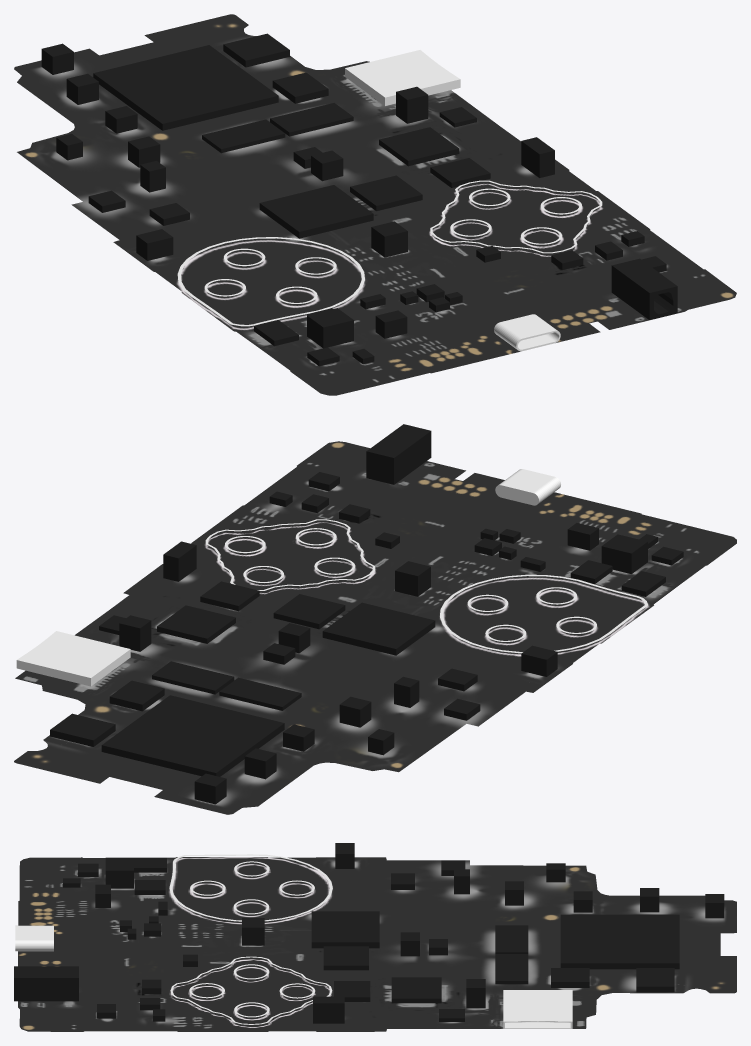
Rendered from board.glb.
The picture shows the model from 3 angles, top to bottom: view 1: azimuth 30°, elevation 25°; view 2: azimuth 150°, elevation 25°; view 3: azimuth 270°, elevation 25°; orthographic projection. The views are drawn at different scales.
Parts seen in each view (by area): view 1: Plane.001, Cube.002, Cube, Cube.030, Headphone port, Cube.001, USB-C, Cube.039, Cube.003, Cube.004, Cube.014, Cube.032 (+17 smaller); view 2: Plane.001, Cube.002, Cube.030, Cube, Headphone port, Cube.001, USB-C, Cube.039, Cube.004, Cube.003, Cube.014, Cube.032 (+18 smaller); view 3: Plane.001, Cube.002, Cube.030, Cube, Headphone port, Cube.001, Cube.039, USB-C, Cube.004, Cube.003, Cube.032, Cube.014 (+21 smaller).
Boxes of the visible parts, x1,y1,x2,y2 form: Plane.001: [14, 14, 736, 395]; Cube.002: [93, 45, 278, 130]; Cube: [259, 185, 373, 238]; Cube.030: [345, 50, 460, 105]; Headphone port: [611, 258, 677, 320]; Cube.001: [379, 127, 459, 166]; USB-C: [494, 314, 560, 351]; Cube.039: [350, 175, 422, 211]; Cube.003: [202, 119, 285, 153]; Cube.004: [270, 103, 353, 136]; Cube.014: [307, 308, 353, 348]; Cube.032: [223, 33, 289, 67]; Plane.001: [14, 441, 736, 814]; Cube.002: [101, 695, 284, 776]; Cube.030: [16, 631, 130, 686]; Cube: [322, 602, 435, 655]; Headphone port: [366, 424, 431, 484]; Cube.001: [157, 605, 235, 643]; USB-C: [495, 469, 560, 505]; Cube.039: [273, 594, 345, 629]; Cube.004: [152, 661, 234, 694]; Cube.003: [219, 677, 301, 710]; Cube.014: [601, 534, 647, 573]; Cube.032: [50, 713, 115, 746]; Plane.001: [18, 857, 736, 1031]; Cube.002: [560, 914, 679, 969]; Cube.030: [503, 990, 572, 1028]; Cube: [311, 911, 379, 948]; Headphone port: [14, 966, 78, 1001]; Cube.001: [391, 977, 441, 1003]; Cube.039: [323, 946, 368, 970]; USB-C: [15, 925, 53, 951]; Cube.004: [495, 954, 528, 984]; Cube.003: [495, 925, 528, 953]; Cube.032: [636, 968, 674, 992]; Cube.014: [105, 857, 133, 888].
Size of the model in its own units: 2.78 by 0.1875 by 4.85.
Materials: 4 (1 with a texture image).
